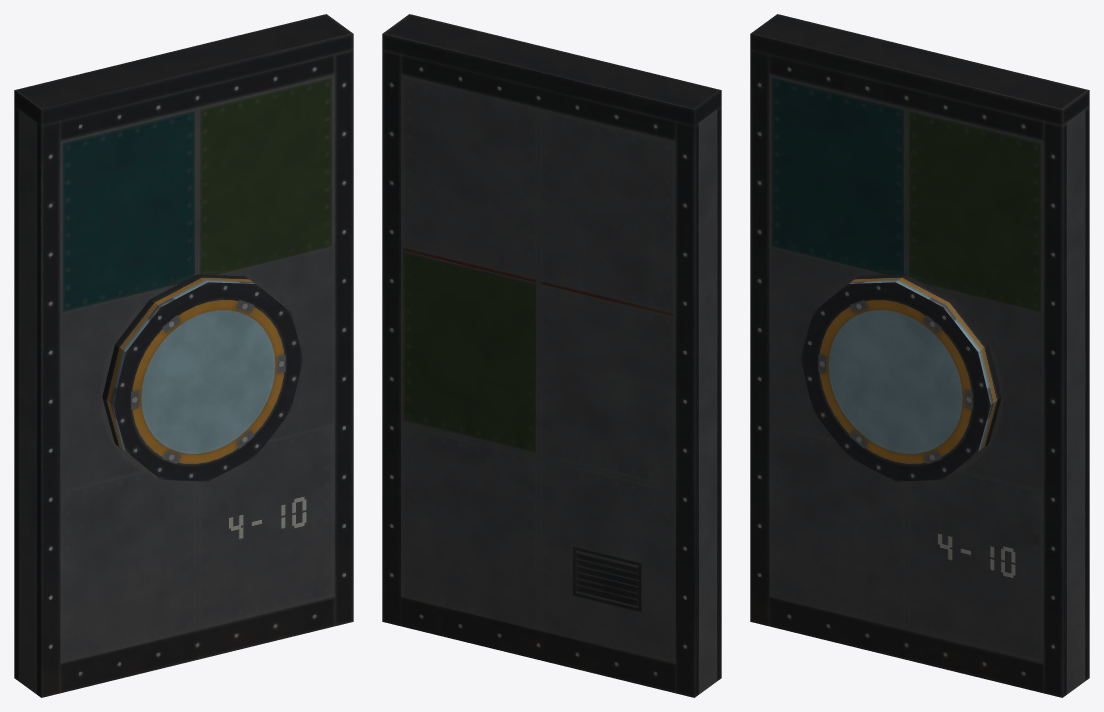
Rendered from hull_wall_port.glb.
The picture shows the model from 3 angles, left to right: view 1: azimuth 30°, elevation 25°; view 2: azimuth 150°, elevation 25°; view 3: azimuth 330°, elevation 25°; orthographic projection.
Visible parts, largest first — view 1: hull_wall_port; view 2: hull_wall_port; view 3: hull_wall_port.
Part boxes in pixels (x1,y1,x2,y2): hull_wall_port: (14, 14, 353, 697); hull_wall_port: (382, 14, 721, 697); hull_wall_port: (750, 14, 1089, 697).
Size of the model in its own units: 2 by 3.6 by 0.42.
Materials: 1 (1 with a texture image).
